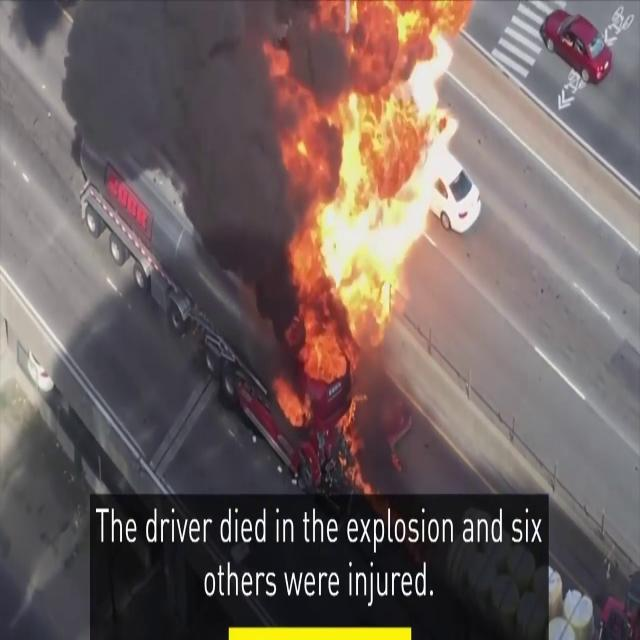Fire: (290, 4, 466, 494)
Smoke: (71, 0, 350, 297)
